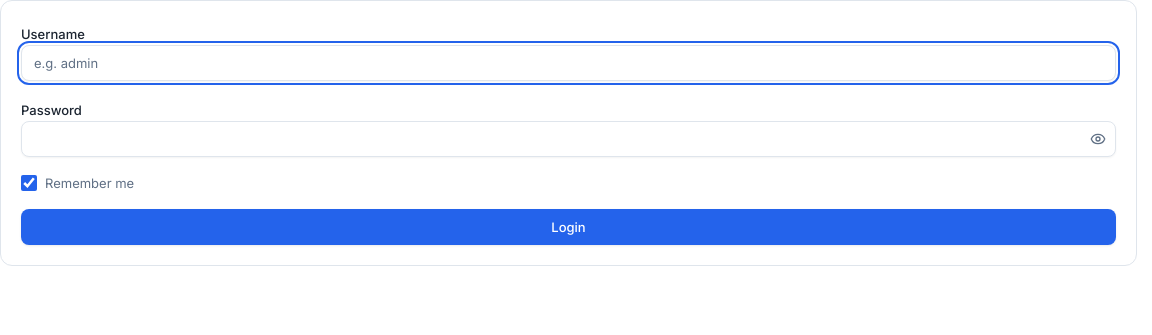
Test case: LoginForm › distinguishes rate limiting, because the user must wait rather than retype
The image size is (1152, 335).
Type "user1" into the field labelled "Username" at [568, 63], box [21, 45, 1116, 81]
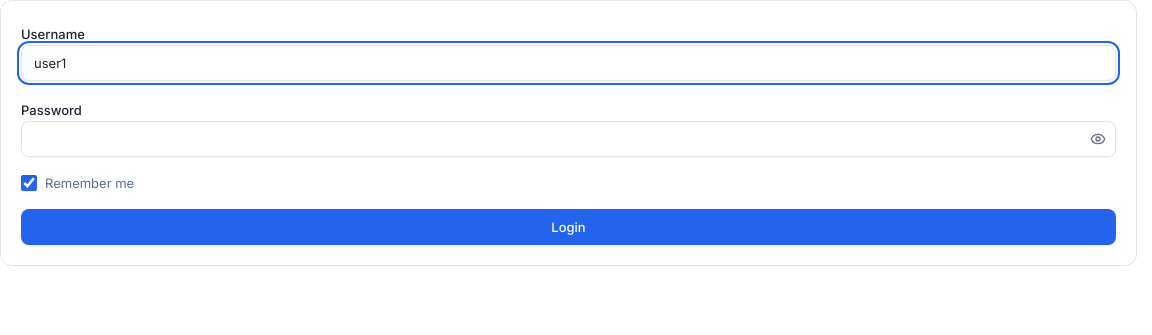
Type "Pa55word!" into the password field labelled "Password" at [568, 139], box [21, 121, 1116, 157]
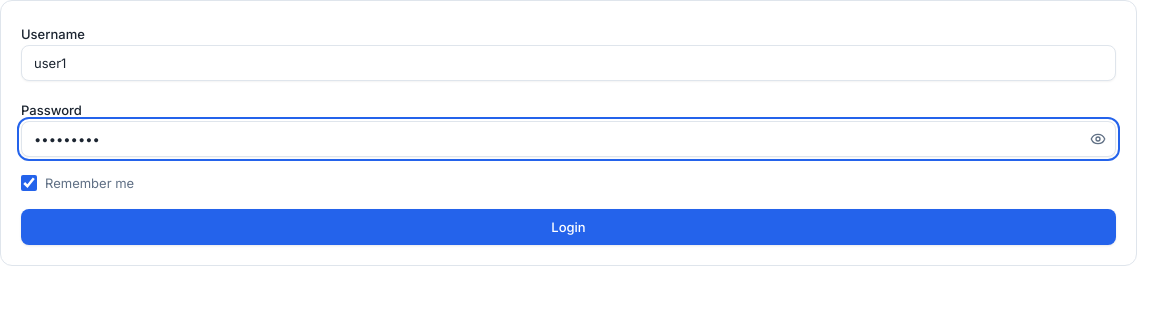
Click the button "Login" at [568, 227], box [21, 209, 1116, 245]
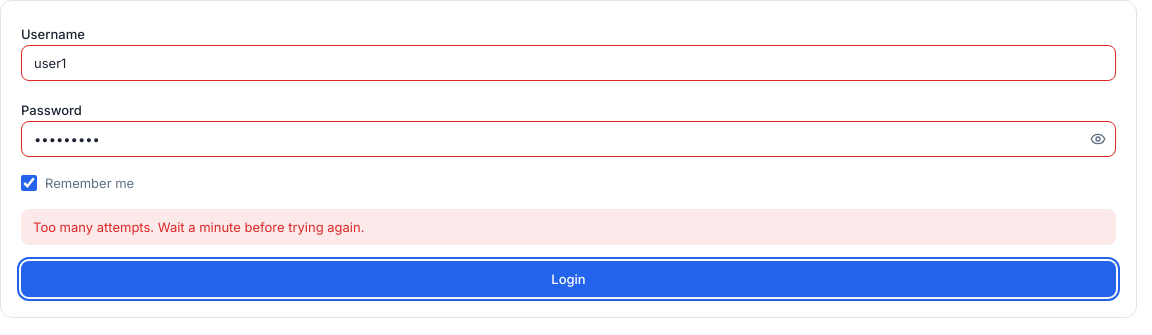
Check: the message shows "Too many attempts", box [33, 219, 364, 235]
